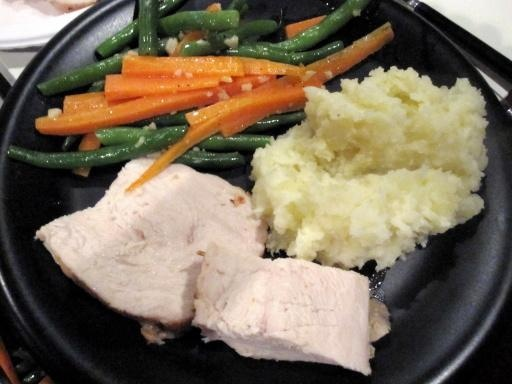background: (6, 0, 391, 226)
